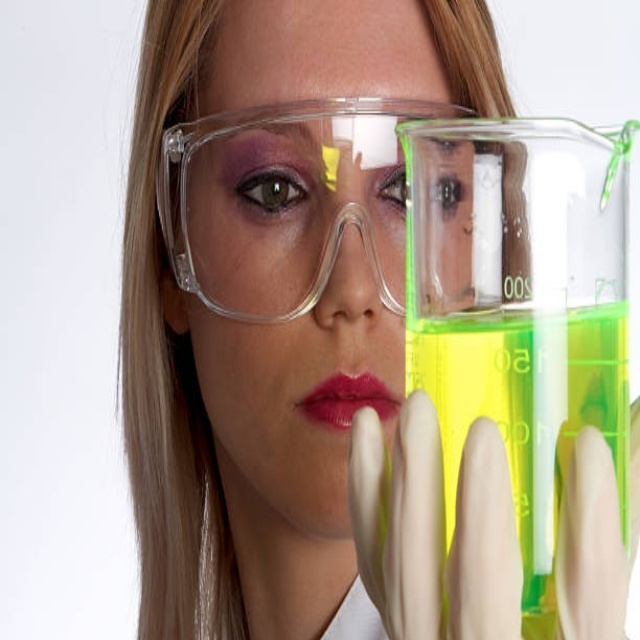Gafas: (164, 102, 631, 327)
Guantes: (347, 387, 632, 630)
Sin_mascara: (283, 334, 402, 427)
